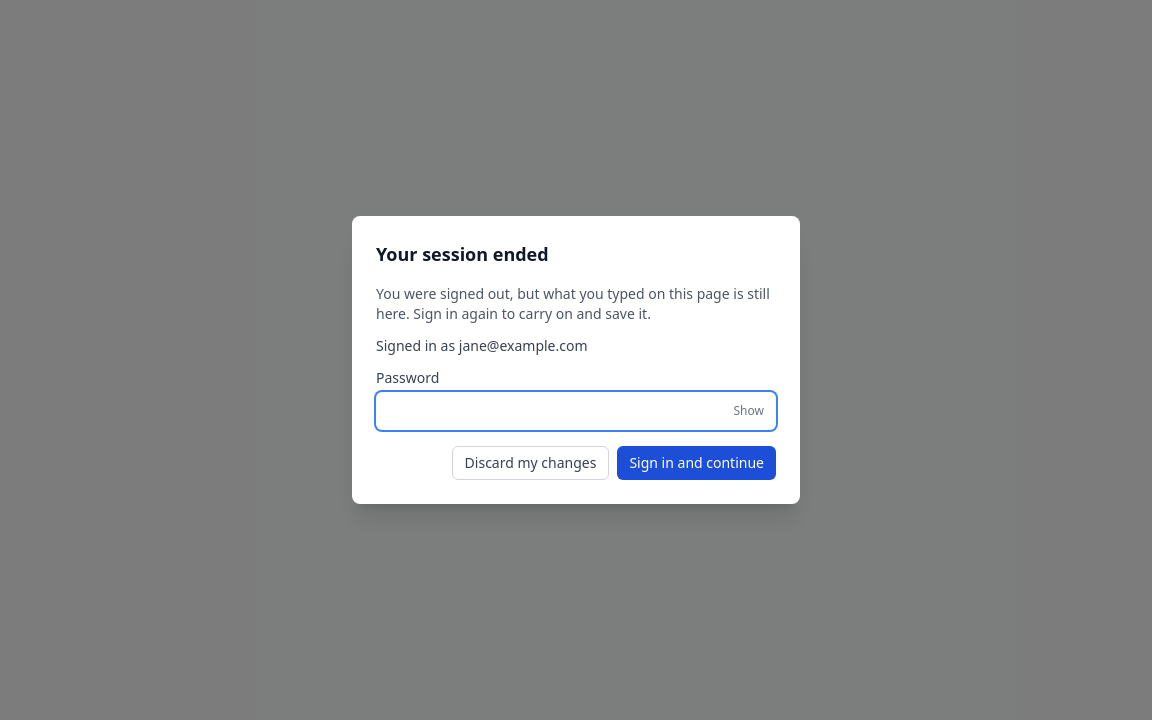
Test: SessionResumePrompt › a wrong password shows the server message and stays open
Step 1. Type "nope" into the password field labelled "Password" → (576, 411), box top-left (376, 392), bottom-right (776, 430)
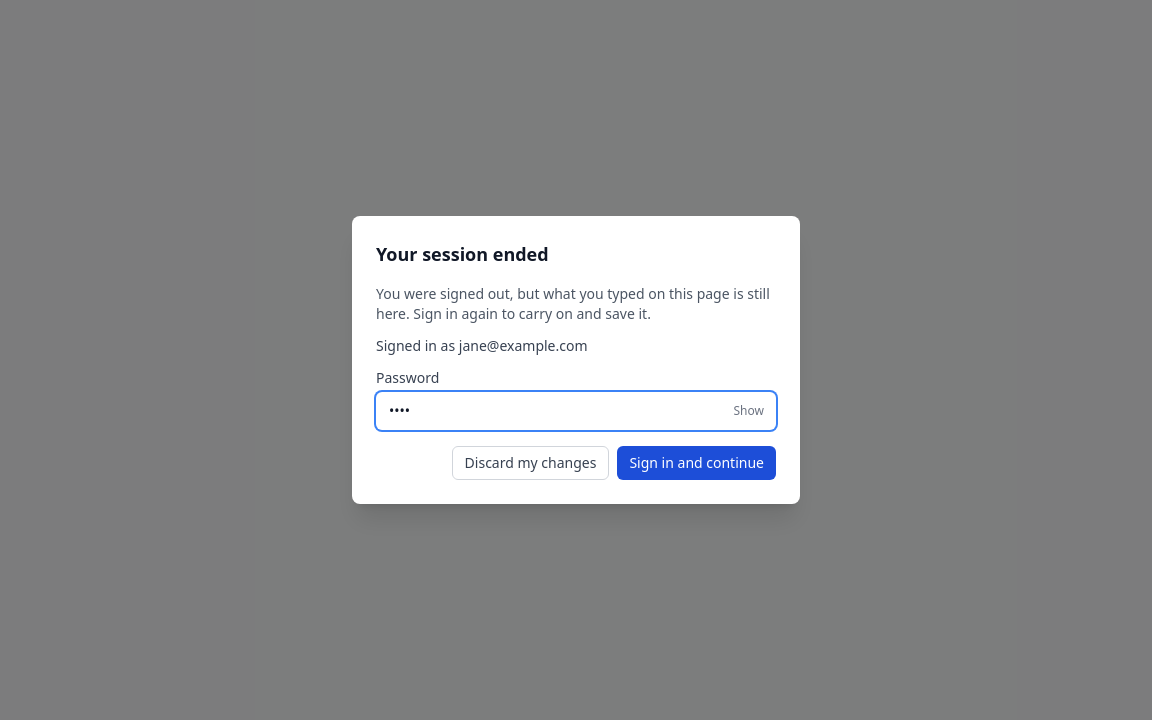
Step 2. Click the button "Sign in and continue" → (697, 463), box top-left (617, 446), bottom-right (776, 480)
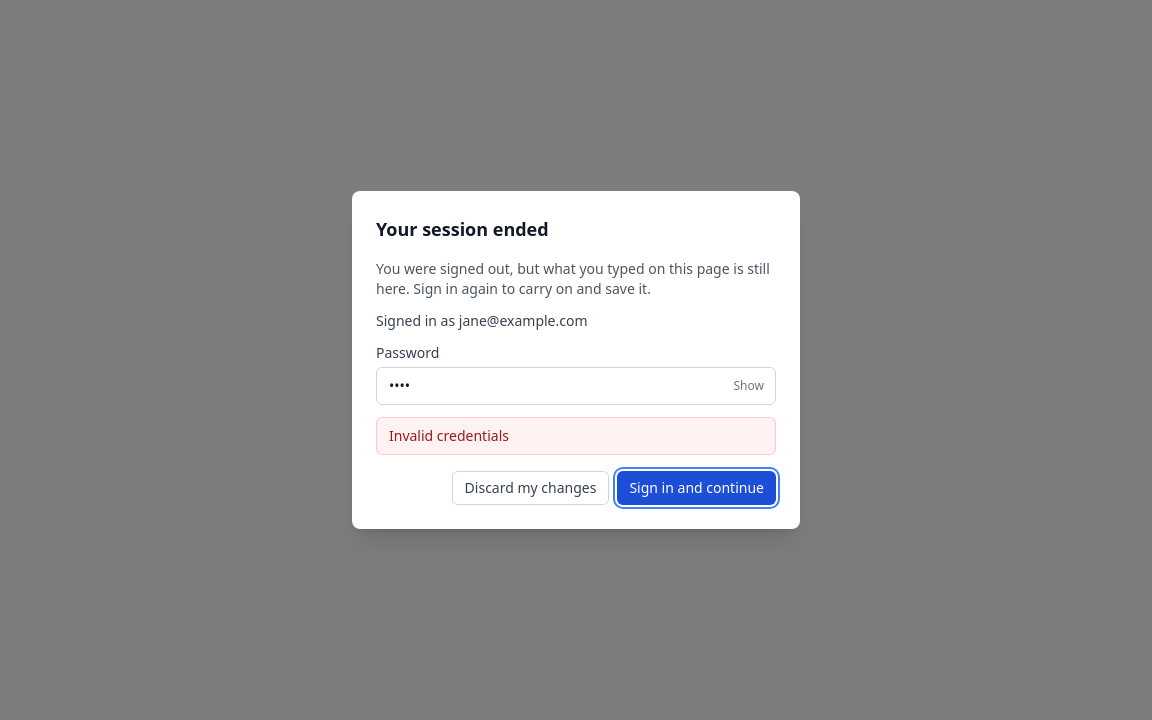
Now the message reads "Invalid credentials", box top-left (389, 426), bottom-right (509, 445)
